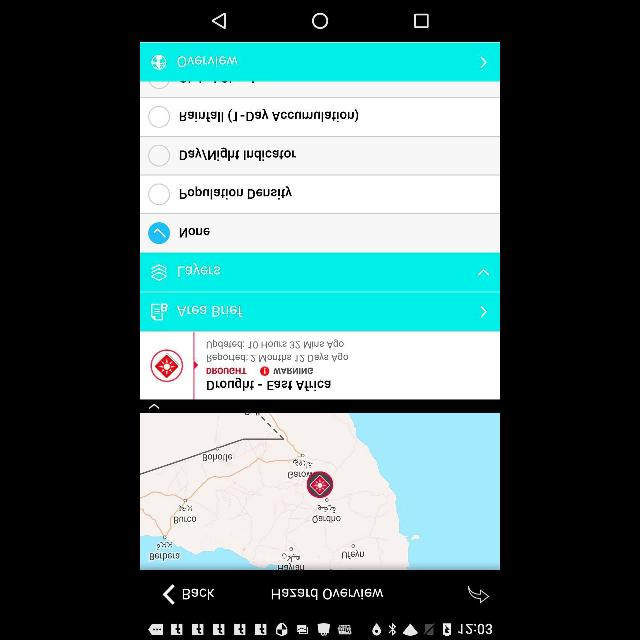checkbox: (147, 105, 171, 129), (148, 144, 170, 168), (148, 182, 170, 205), (148, 222, 170, 244)
icon: (150, 350, 183, 382), (190, 332, 198, 398), (148, 302, 168, 322), (468, 586, 490, 604), (310, 13, 330, 32), (162, 582, 176, 604), (150, 264, 168, 280), (150, 53, 166, 71), (212, 11, 228, 29), (414, 12, 430, 28), (476, 54, 488, 70), (478, 304, 488, 318), (477, 267, 491, 277), (260, 366, 270, 376), (149, 404, 159, 410)
map: (142, 412, 500, 572)
panel: (141, 82, 499, 250), (140, 332, 500, 398), (143, 40, 499, 82), (140, 1, 500, 41), (177, 107, 361, 125)
text: (178, 147, 298, 163), (271, 586, 385, 602), (206, 378, 334, 392), (206, 351, 350, 363), (178, 186, 294, 200), (204, 340, 346, 350), (176, 54, 240, 70), (178, 225, 212, 239), (272, 366, 314, 376), (204, 367, 248, 375)
textbutton: (140, 251, 500, 291), (141, 294, 499, 330), (180, 586, 216, 600)
toolbar: (140, 572, 498, 614)
uppertaskbar: (142, 613, 496, 639)
